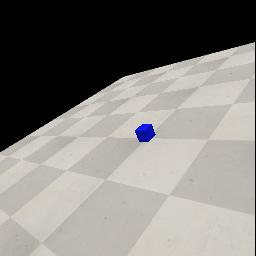box: (135, 124, 156, 142)
